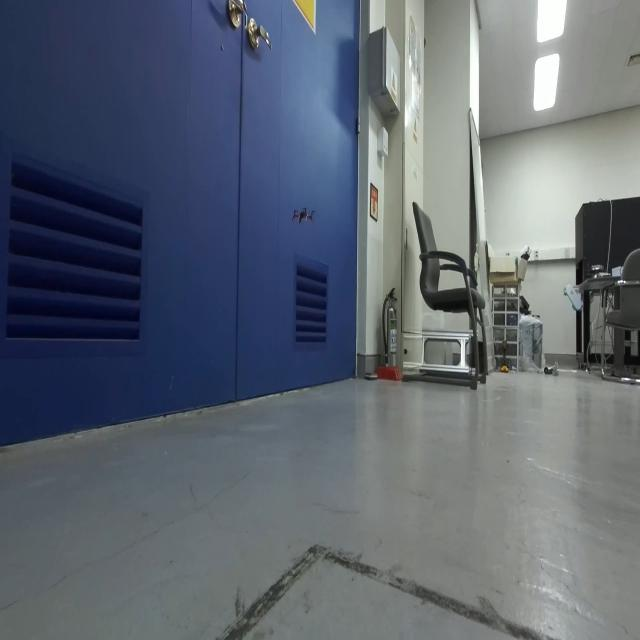crazyflie: (290, 199, 319, 234)
